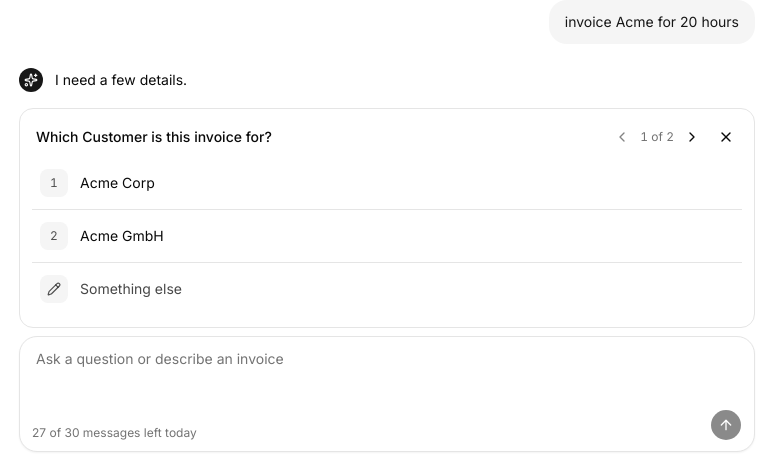
Test case: ChatIsland - question dock (AC-55, AC-56) › typing in the composer still works with the form open and sends a typed message (no form)
Type "never mind" into the text box named "Message".
click(387, 373); type("never mind")  # box [20,337,754,409]
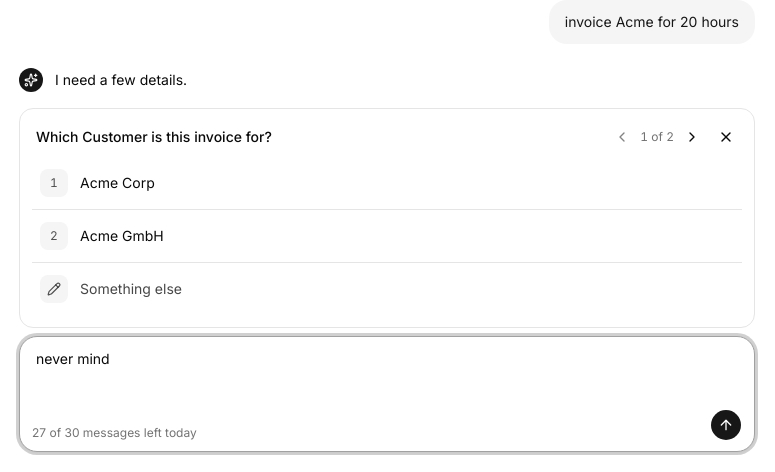
Click the button named "Send".
click(726, 425)  # box [710,409,742,441]
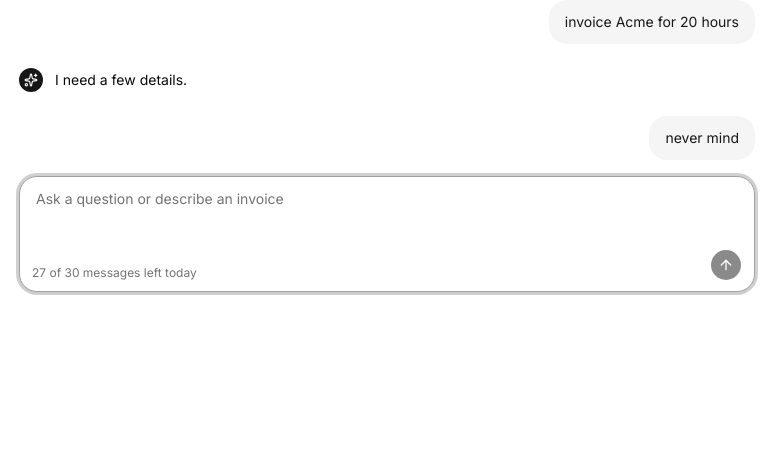
Result: the text "never mind" is shown at [665,126,739,150]
